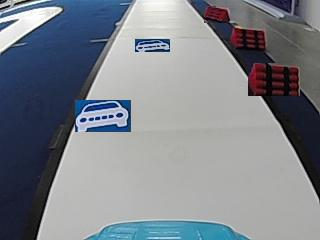bomb: (228, 26, 266, 48)
